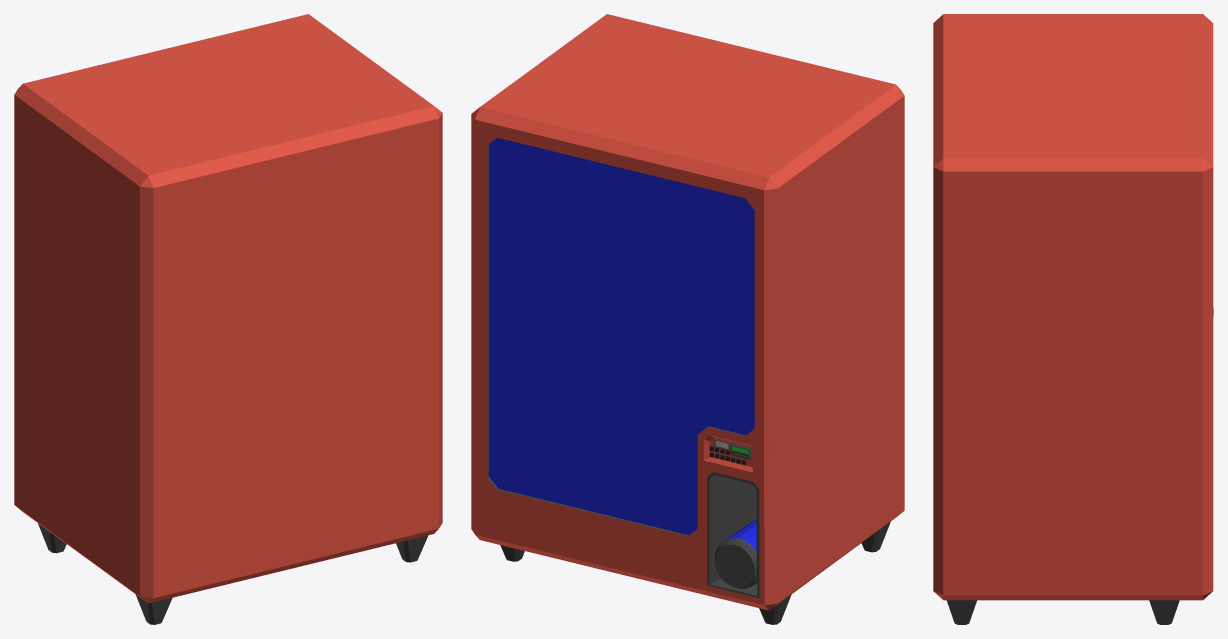
File: FireRefuel.fbx
The picture shows the model from 3 angles, left to right: view 1: azimuth 30°, elevation 25°; view 2: azimuth 150°, elevation 25°; view 3: azimuth 270°, elevation 25°; orthographic projection. The views are drawn at different scales.
Parts seen in each view (by area): view 1: Cube.009; view 2: Cube.009; view 3: Cube.009.
Part boxes in pixels (left/top/right/bottom): Cube.009: left=14, top=14, right=442, bottom=624; Cube.009: left=471, top=14, right=904, bottom=624; Cube.009: left=933, top=14, right=1213, bottom=624.
Bounding box in the file's own units: 281 × 405 × 218.
